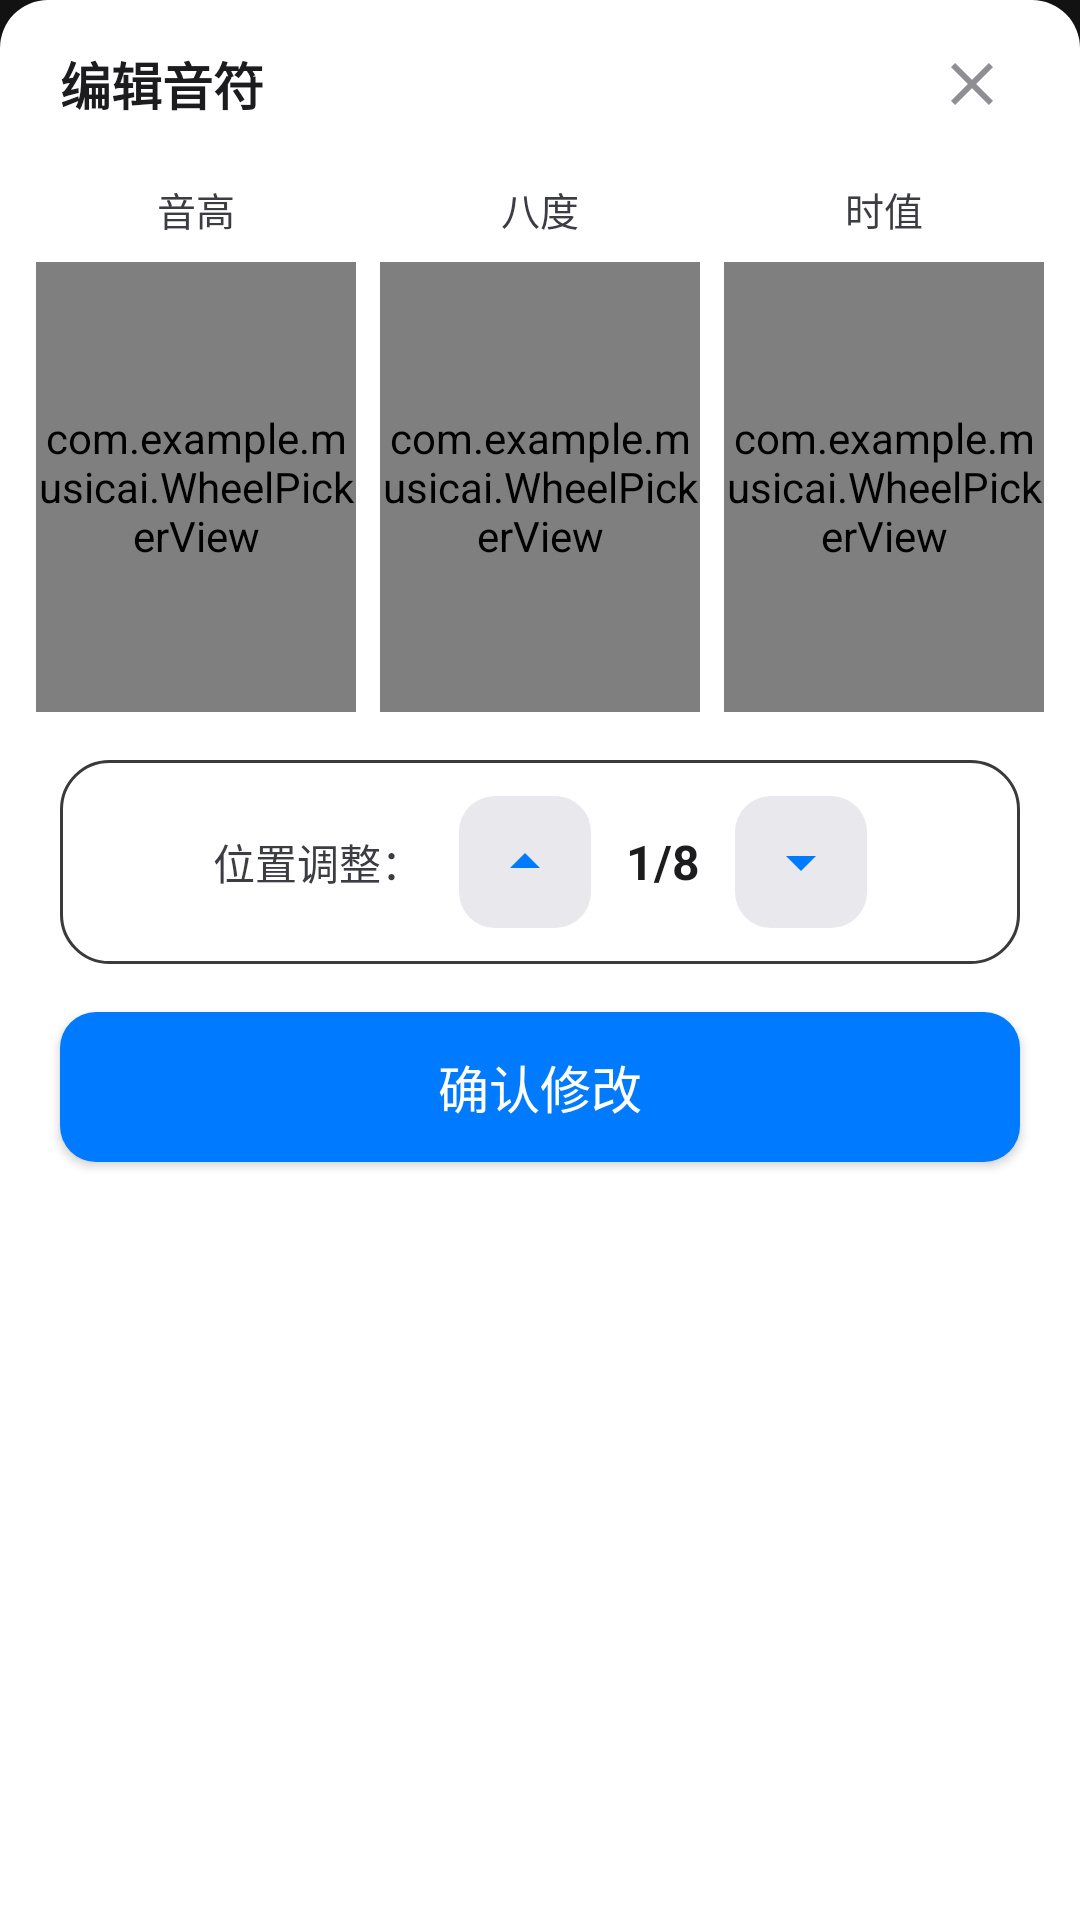

Where to tap for icons on this 1080x1920 app screen, as point (x, y):
上移: point (525, 860)
下移: point (801, 863)
关闭: point (972, 84)
